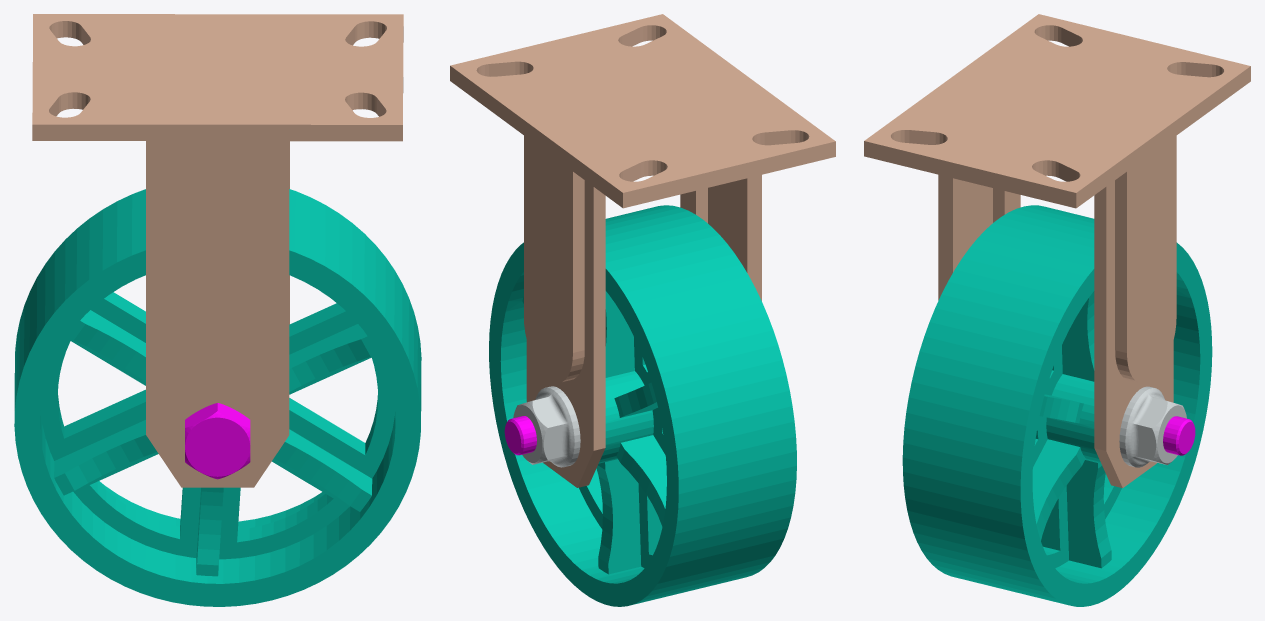
Rendered from caster_wheel_subassembly.glb.
The picture shows the model from 3 angles, left to right: view 1: azimuth 30°, elevation 25°; view 2: azimuth 150°, elevation 25°; view 3: azimuth 270°, elevation 25°; orthographic projection. The views are drawn at different scales.
Parts seen in each view (by area): view 1: Node1; view 2: Node1; view 3: Node1.
Boxes of the visible parts, left/top/right/bottom form: Node1: left=14, top=14, right=421, bottom=606; Node1: left=450, top=14, right=835, bottom=606; Node1: left=864, top=14, right=1250, bottom=606.
Bounding box in the file's own units: 197 × 244 × 180.
